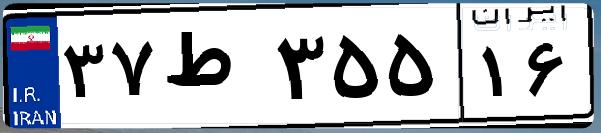1: (475, 38, 525, 113)
3: (270, 28, 330, 110), (57, 26, 110, 100)
5: (385, 28, 445, 110), (330, 28, 385, 110)
6: (525, 38, 570, 115)
7: (110, 28, 158, 98)
ط: (158, 20, 270, 120)
